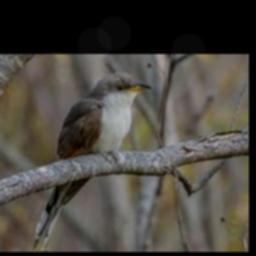Cuckoo: (32, 73, 153, 250)
